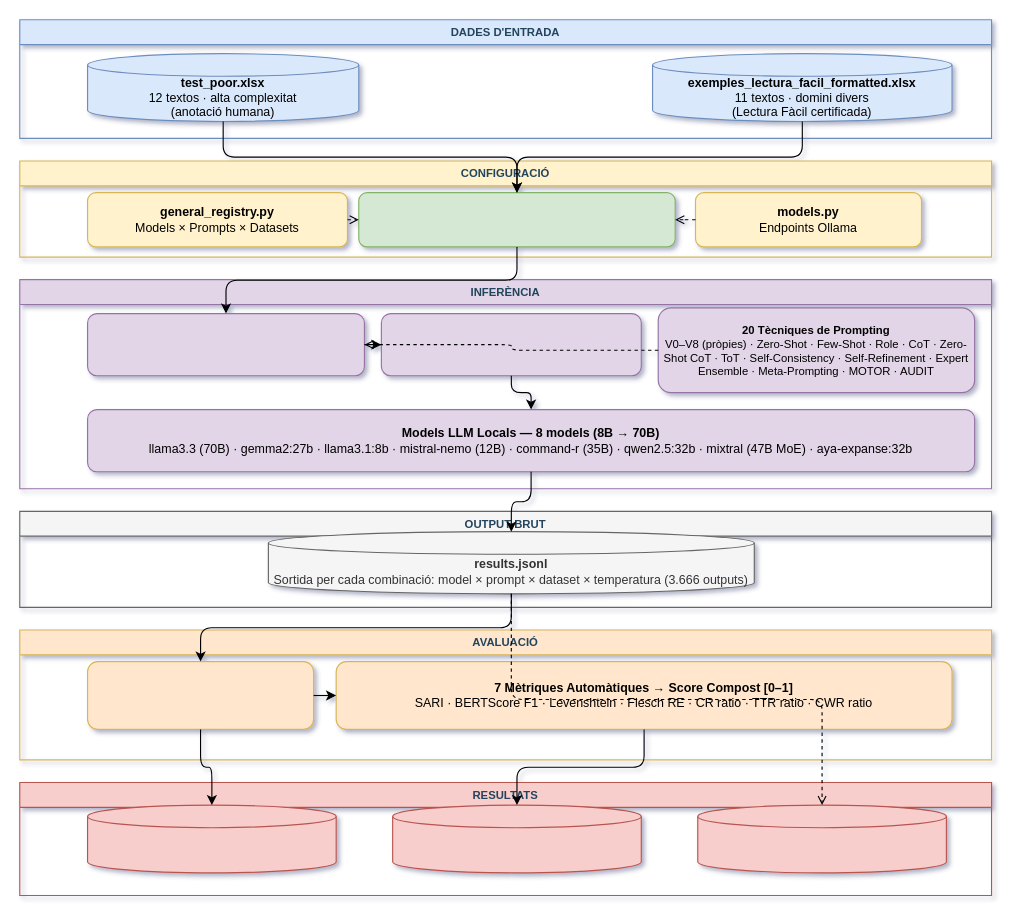
Image size: 1018x922. Some labels were removed from this diagram. The centre of each missing label's shape, as x and y in pixels:
Documents Word Estudi amb usuaris finals: pixel 821 838
evaluator.py evaluate_excel.py: pixel 200 694
Excel de Resultats Mètriques per text + resum: pixel 211 838
Gràfics PNG update_plots.py: pixel 516 838
LangChain Injecció de prompts i orquestració de cadenes: pixel 225 344
Ollama Servidor d'inferència LLM local (GPU): pixel 510 344
run_all_models.py Orquestrador principal · itera totes les combinacions: pixel 516 219
